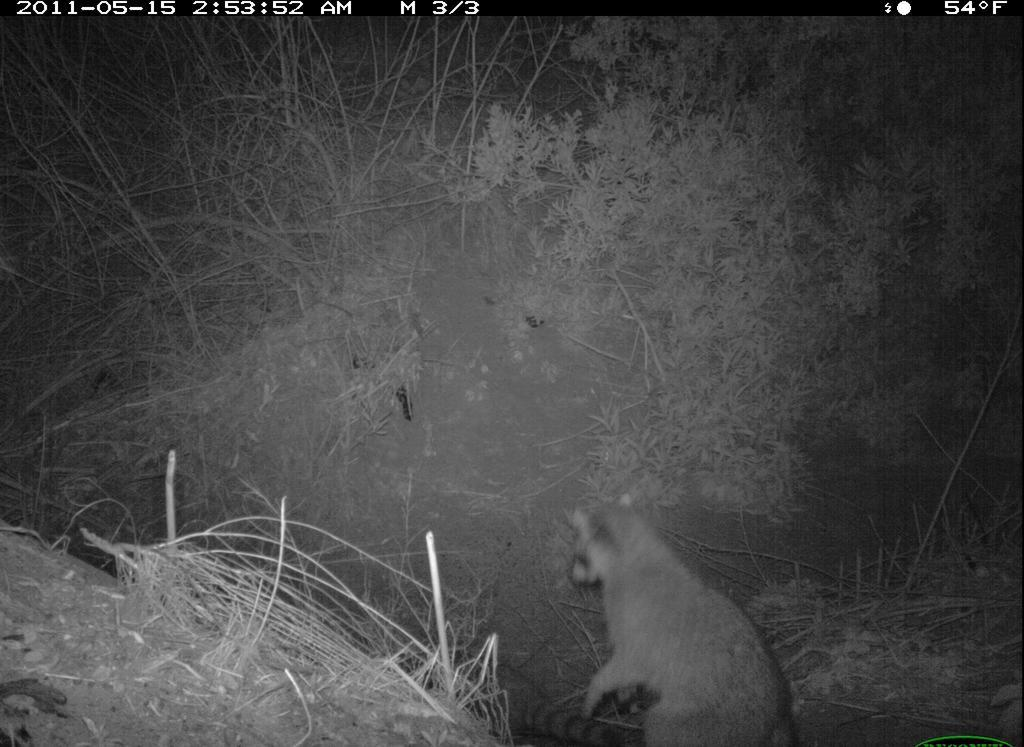raccoon: (557, 491, 803, 747)
